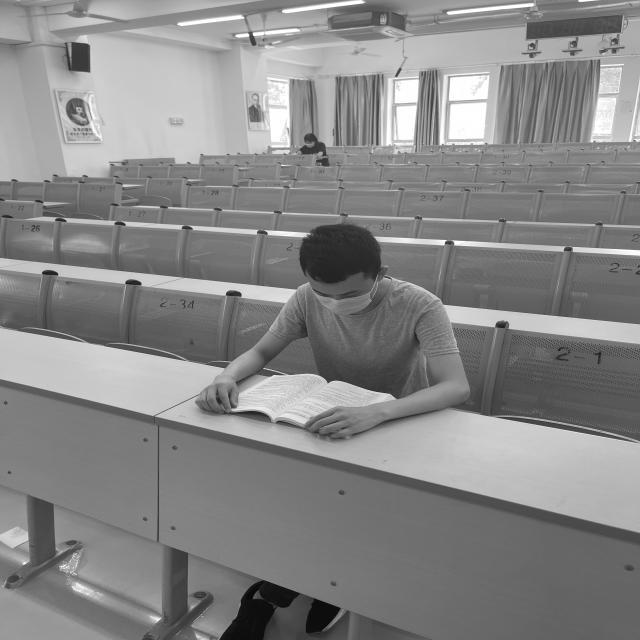study: (193, 224, 473, 434), (299, 131, 328, 156)
